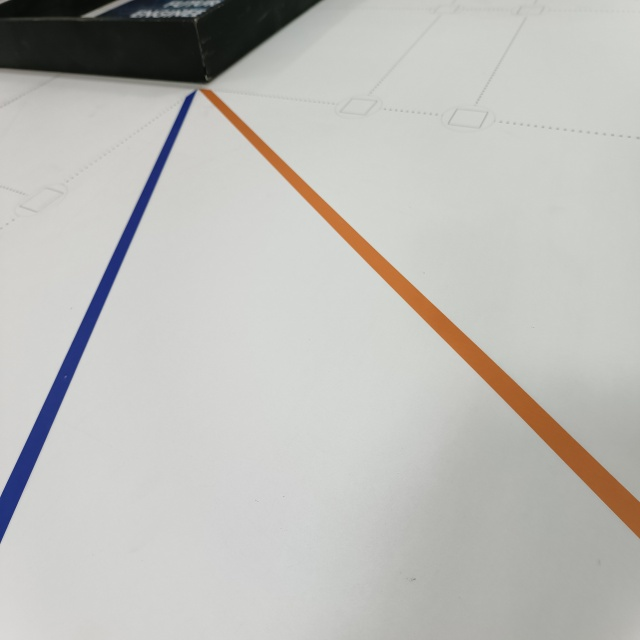blue line: (0, 87, 193, 546)
orange line: (201, 85, 640, 537)
